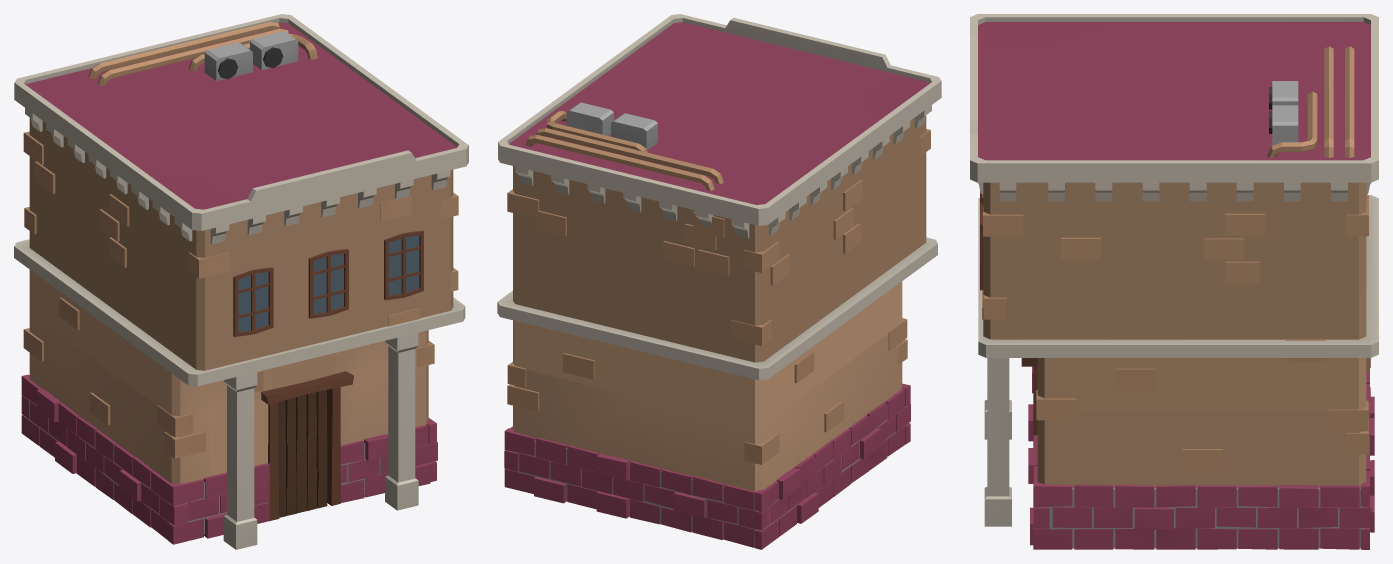
The model's file is house-6.glb.
The picture shows the model from 3 angles, left to right: view 1: azimuth 30°, elevation 25°; view 2: azimuth 150°, elevation 25°; view 3: azimuth 270°, elevation 25°; orthographic projection. The views are drawn at different scales.
Visible parts, largest first — view 1: house-6; view 2: house-6; view 3: house-6.
Boxes of the visible parts, x1,y1,x2,y2 form: house-6: [14, 14, 468, 549]; house-6: [497, 14, 941, 549]; house-6: [970, 14, 1378, 549].
Size of the model in its own units: 6.07 by 7.79 by 7.
